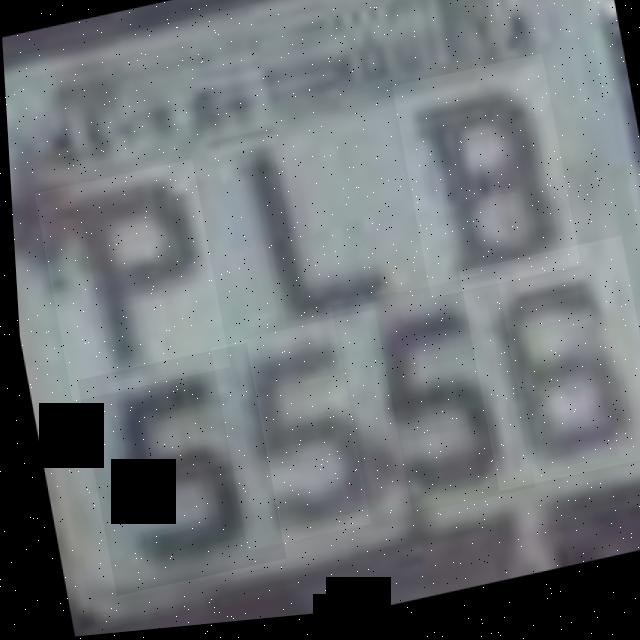5: (71, 345, 280, 599), (326, 278, 530, 532), (205, 316, 406, 557)
6: (454, 245, 640, 503)
B: (389, 61, 577, 308)
J: (215, 113, 399, 362)
P: (31, 160, 226, 404)
